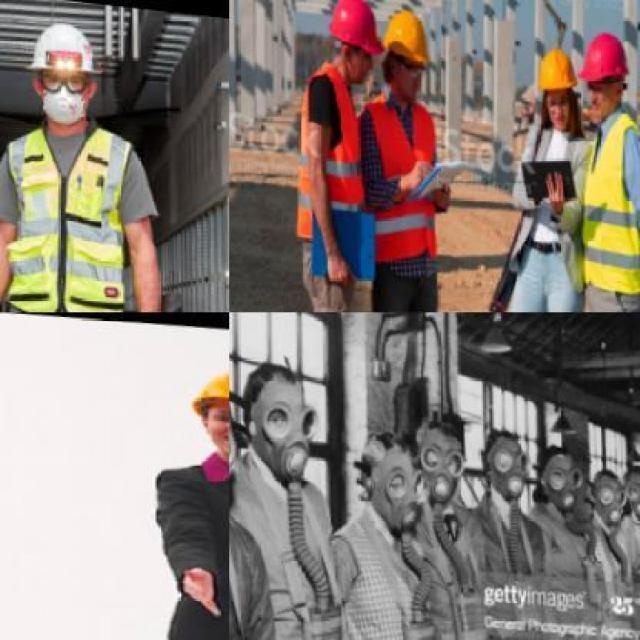hat: (18, 10, 106, 76), (378, 0, 434, 63), (324, 0, 387, 55), (575, 20, 634, 77), (189, 357, 228, 431), (532, 37, 582, 85)
